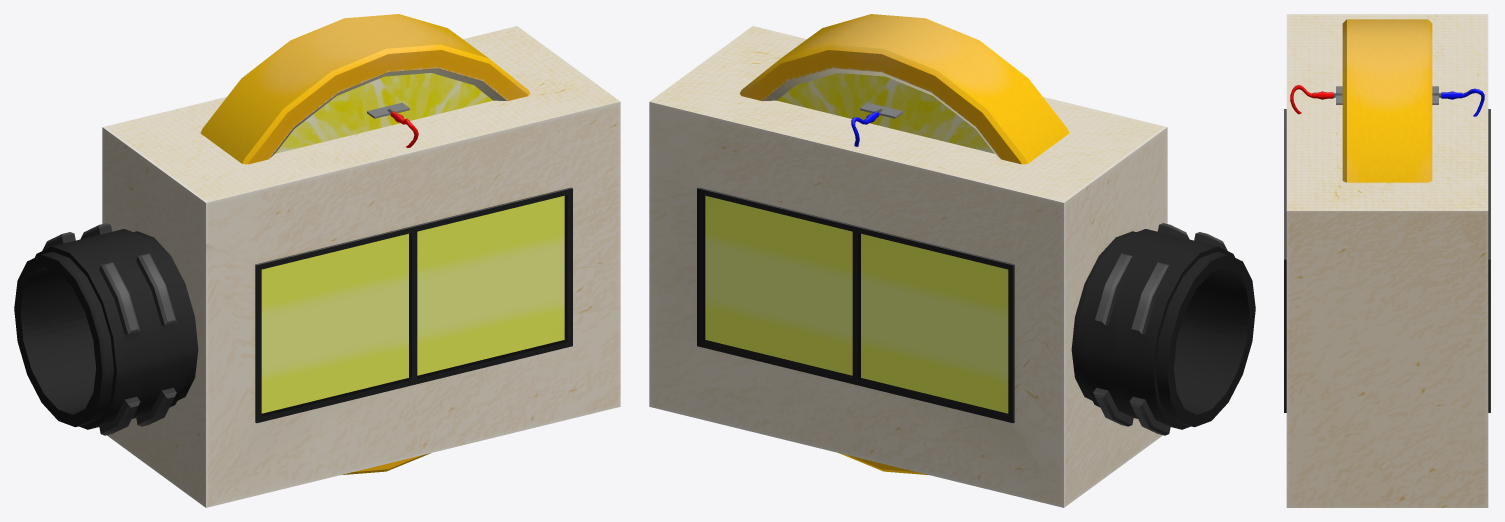
File: BFT.fbx
The picture shows the model from 3 angles, left to right: view 1: azimuth 30°, elevation 25°; view 2: azimuth 150°, elevation 25°; view 3: azimuth 270°, elevation 25°; orthographic projection. The views are drawn at different scales.
Parts seen in each view (by area): view 1: BFT; view 2: BFT; view 3: BFT.
Part boxes in pixels (left/top/right/bottom): BFT: left=14, top=14, right=620, bottom=507; BFT: left=649, top=14, right=1255, bottom=507; BFT: left=1284, top=14, right=1490, bottom=507.
Size of the model in its own units: 45.55 by 36.04 by 16.4.
